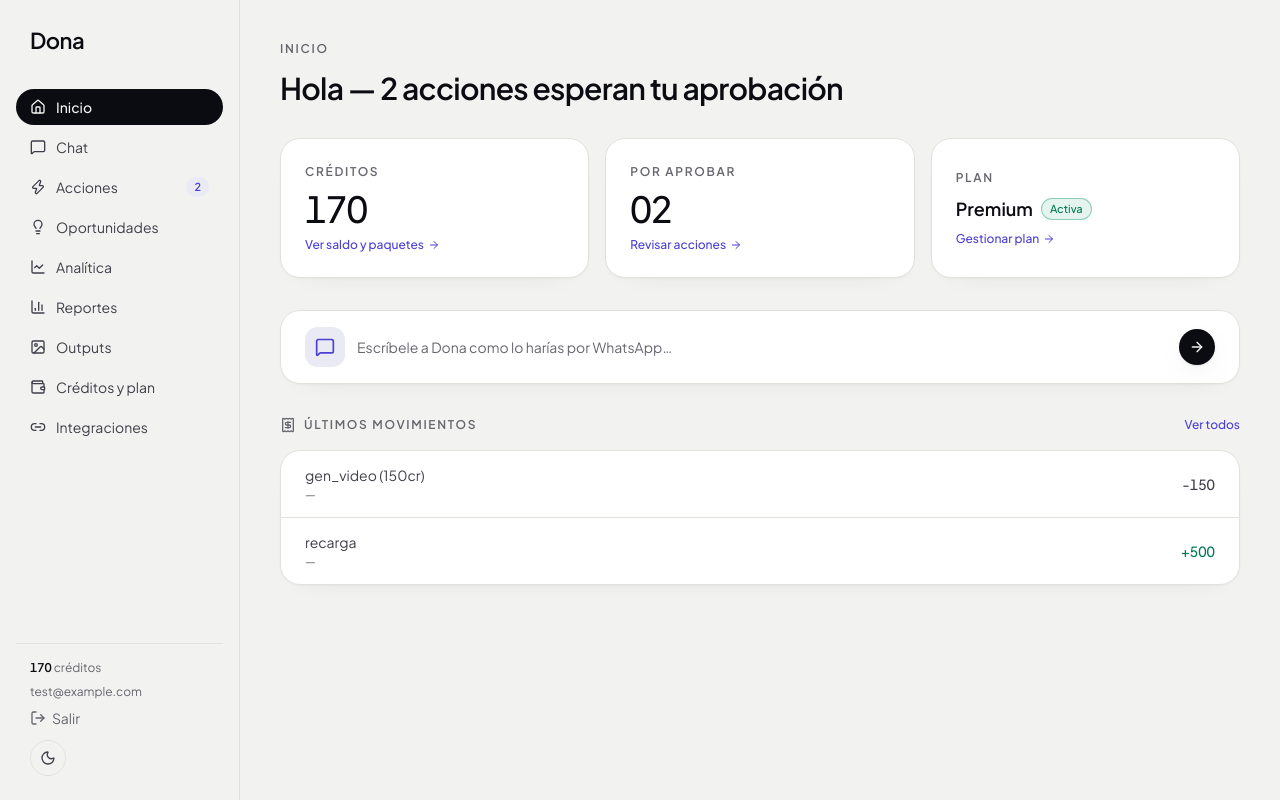
DashboardShell · sidebar y navegación › arranca en Inicio y navega a Créditos y plan actualizando la URL
Expected: the heading "Hola — 2 acciones esperan tu aprobación" is shown, x1=280 y1=69 x2=843 y2=107
Click the button "Créditos y plan": x=120, y=387 x1=16 y1=369 x2=223 y2=405
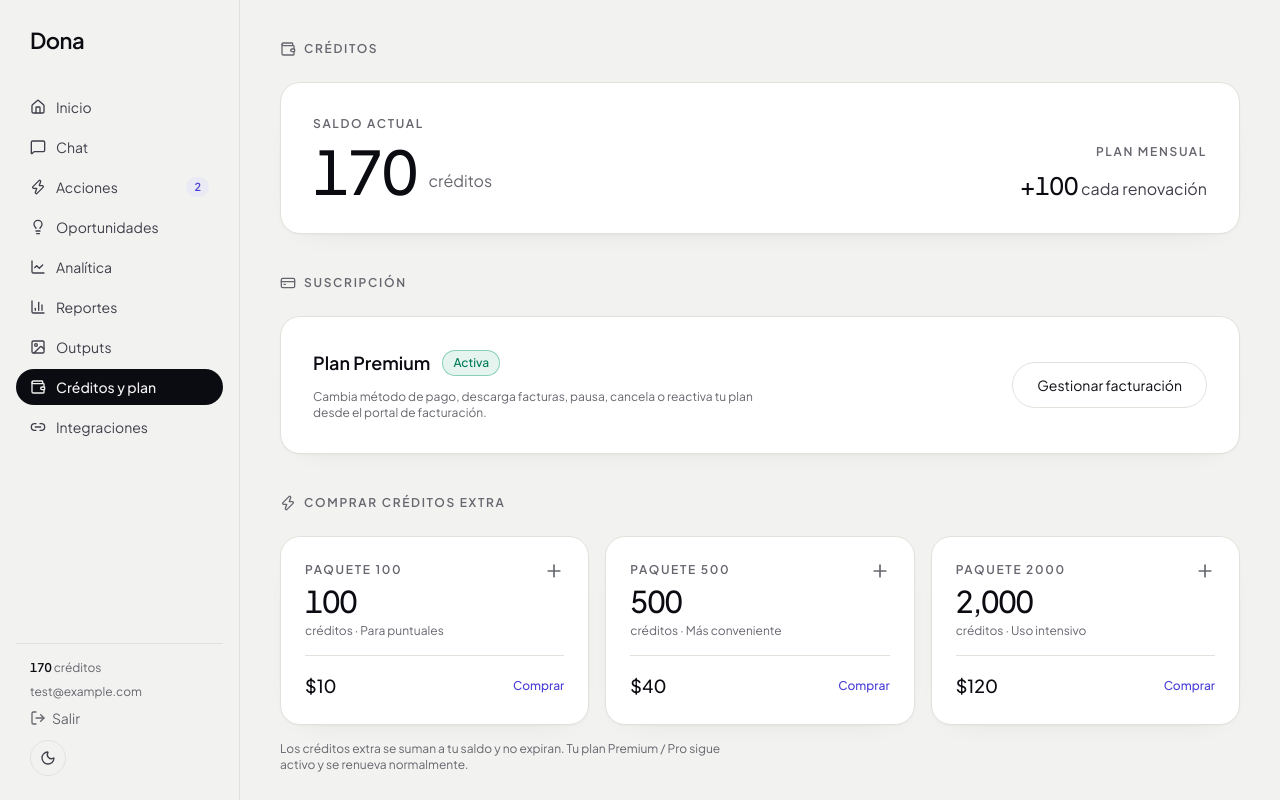
Now the text "Saldo actual" is shown, box x1=313 y1=116 x2=424 y2=131
